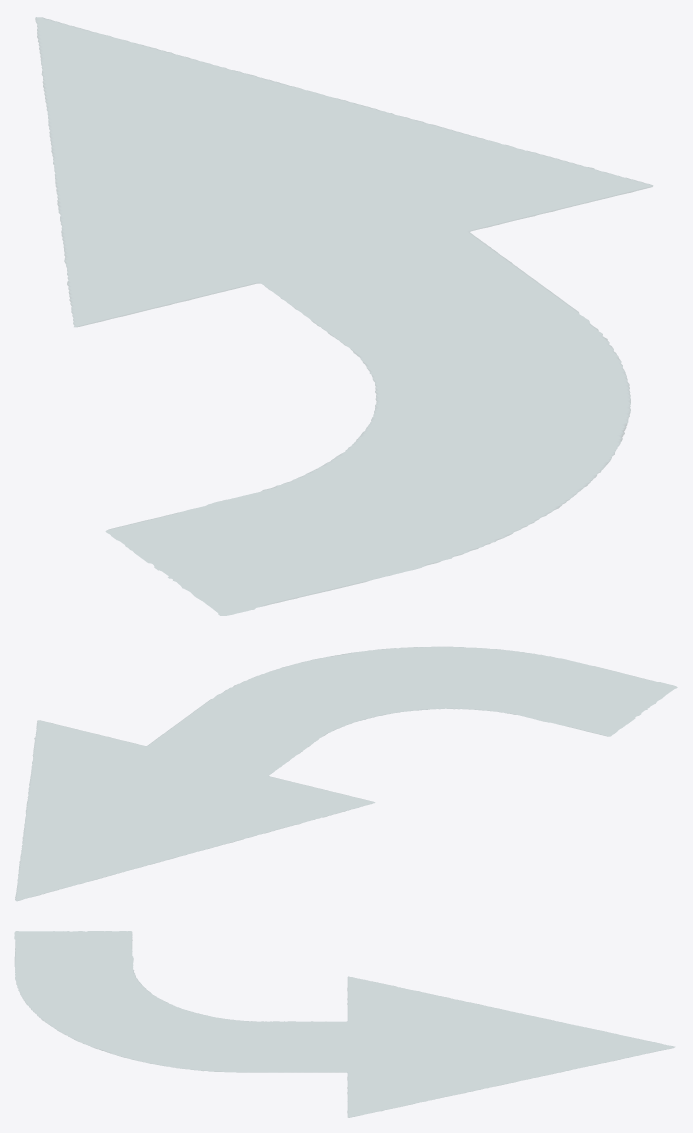
The model's file is SM05_Decals_TrafficSign_01_Arrow_02.fbx.
The picture shows the model from 3 angles, top to bottom: view 1: azimuth 30°, elevation 25°; view 2: azimuth 150°, elevation 25°; view 3: azimuth 270°, elevation 25°; orthographic projection. The views are drawn at different scales.
Visible parts, largest first — view 1: SM05_Decals_TrafficSign_01_Arrow_02; view 2: SM05_Decals_TrafficSign_01_Arrow_02; view 3: SM05_Decals_TrafficSign_01_Arrow_02.
Part boxes in pixels (x1=…): SM05_Decals_TrafficSign_01_Arrow_02: x1=35, y1=17, x2=653, y2=615; SM05_Decals_TrafficSign_01_Arrow_02: x1=15, y1=646, x2=677, y2=901; SM05_Decals_TrafficSign_01_Arrow_02: x1=14, y1=931, x2=675, y2=1117.
Size of the model in its own units: 0.954 by 0.000502 by 1.43.
